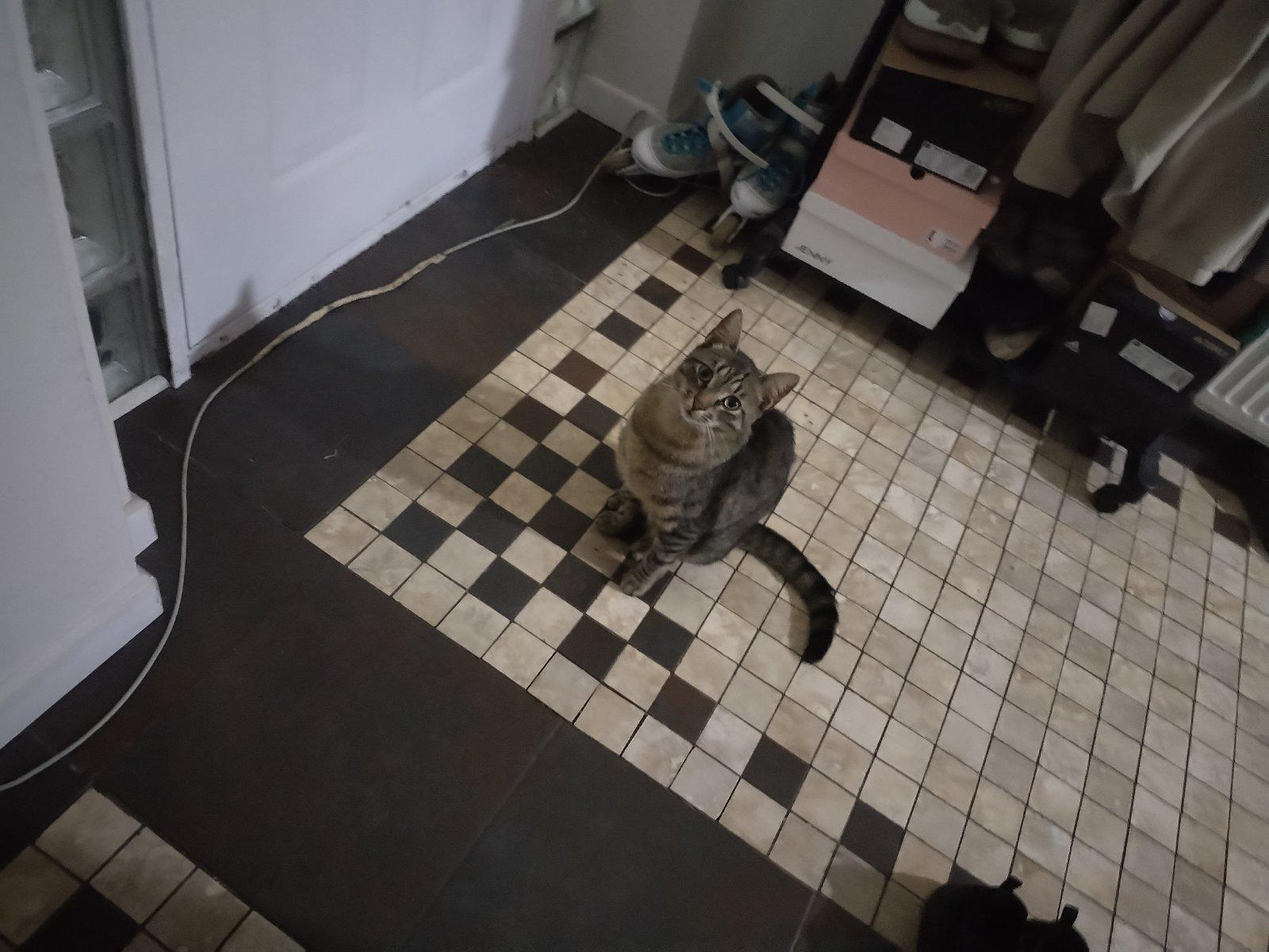macka: (597, 307, 845, 669)
